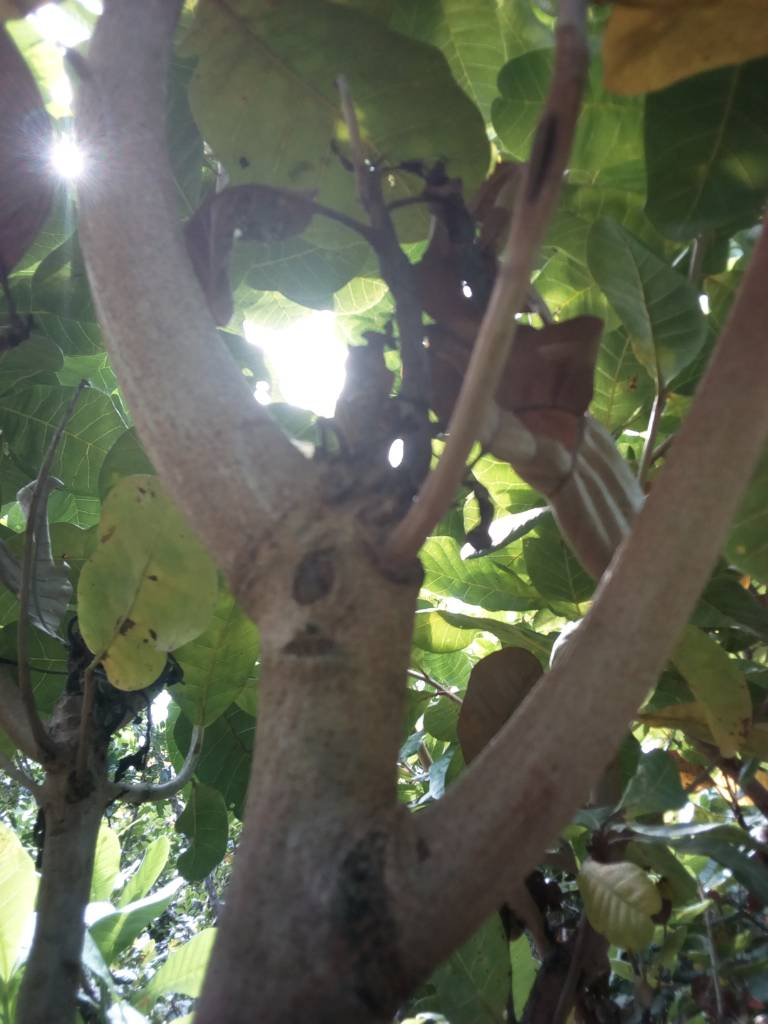Dessèchement des bourgeons: (378, 148, 508, 245)
